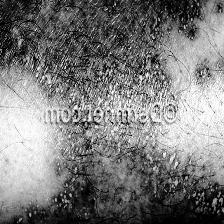Non-Cancerous Skin Condition: (0, 0, 211, 84), (38, 135, 224, 224)
